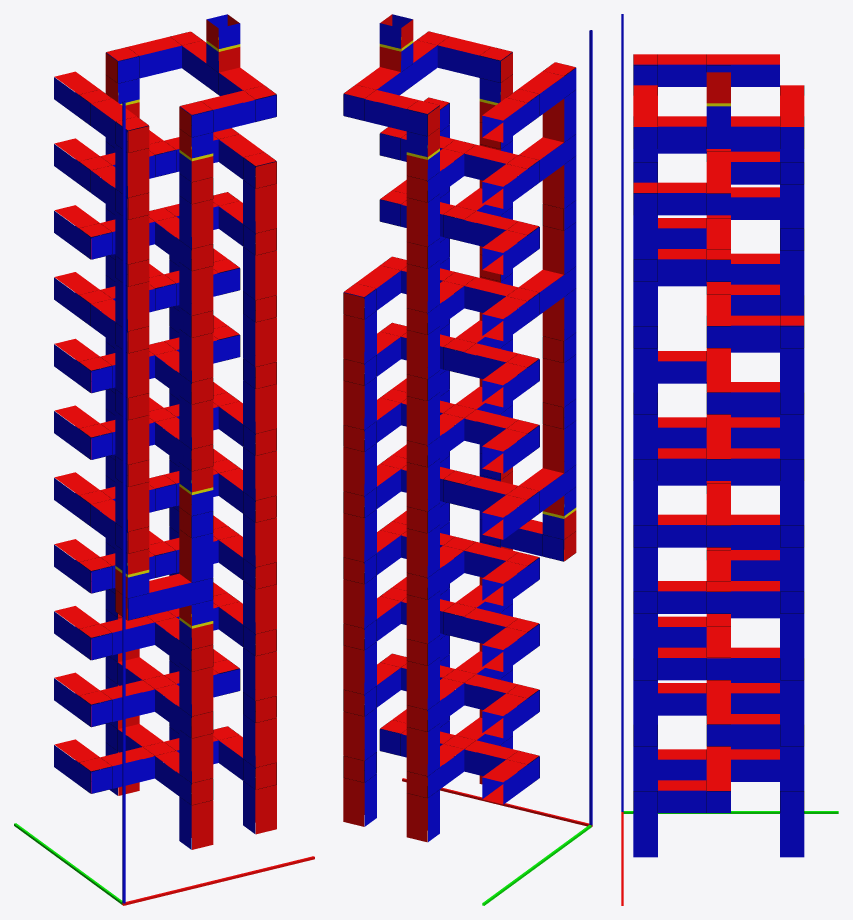
File: factory99.gltf
3 renders of one model, left to right at view 1: azimuth 30°, elevation 25°; view 2: azimuth 150°, elevation 25°; view 3: azimuth 270°, elevation 25°, orthographic.
Parts seen in each view (by area): view 1: axisK:-J, axisK:-I, edgeK(0, 0, 10):-J, edgeK(1, 0, 5):-J, edgeK(1, 0, 6):-J, edgeK(2, 0, 1):-J, edgeK(2, 0, 2):-J, edgeK(2, 0, 9):-J, edgeK(0, 0, 8):-J, edgeK(0, 0, 9):-J, edgeK(1, 0, 0):-J, edgeK(1, 0, 4):-J (+27 smaller); view 2: axisK:+J, axisK:-I, edgeJ(0, 0, 8):-I (×2), edgeJ(0, 0, 5):-I (×2), edgeJ(0, 0, 10):-I (×2), edgeJ(1, 2, 10):+J, edgeJ(2, 2, 1):+J, edgeJ(2, 2, 2):+J, edgeJ(1, 2, 0):+J, edgeJ(1, 2, 3):+J, edgeJ(1, 2, 6):+J, edgeJ(1, 2, 9):+J (+113 smaller); view 3: axisK:+I, edgeJ(2, 0, 3):+I (×2), edgeJ(2, 0, 4):+I (×2), edgeJ(2, 0, 5):+I (×2), edgeJ(2, 0, 9):+I (×2), edgeJ(2, 0, 1):+I (×2), edgeJ(2, 0, 6):+I (×2), edgeJ(2, 1, 11):+I (×2), edgeJ(0, 1, 9):+I, edgeJ(1, 0, 2):+I, edgeJ(1, 0, 7):+I, edgeJ(1, 1, 10):+I (+115 smaller).
Part boxes in pixels (x1=…): axisK:-J: x1=123, y1=102, x2=125, y2=903; axisK:-I: x1=122, y1=102, x2=123, y2=903; edgeK(0, 0, 10):-J: x1=128, y1=148, x2=149, y2=197; edgeK(1, 0, 5):-J: x1=192, y1=466, x2=213, y2=515; edgeK(1, 0, 6):-J: x1=192, y1=399, x2=213, y2=449; edgeK(2, 0, 1):-J: x1=255, y1=718, x2=276, y2=767; edgeK(2, 0, 2):-J: x1=255, y1=651, x2=276, y2=700; edgeK(2, 0, 9):-J: x1=255, y1=183, x2=276, y2=233; edgeK(0, 0, 8):-J: x1=128, y1=282, x2=149, y2=331; edgeK(0, 0, 9):-J: x1=128, y1=215, x2=149, y2=264; edgeK(1, 0, 0):-J: x1=192, y1=800, x2=213, y2=849; edgeK(1, 0, 4):-J: x1=192, y1=533, x2=213, y2=582; axisK:+J: x1=589, y1=30, x2=591, y2=825; axisK:-I: x1=591, y1=30, x2=592, y2=824; edgeJ(0, 0, 8):-I (×2): x1=540, y1=222, x2=576, y2=314; edgeJ(0, 0, 5):-I (×2): x1=540, y1=421, x2=576, y2=512; edgeJ(0, 0, 10):-I (×2): x1=540, y1=90, x2=576, y2=181; edgeJ(1, 2, 10):+J: x1=406, y1=131, x2=427, y2=180; edgeJ(2, 2, 1):+J: x1=343, y1=711, x2=364, y2=760; edgeJ(2, 2, 2):+J: x1=343, y1=645, x2=364, y2=694; edgeJ(1, 2, 0):+J: x1=406, y1=793, x2=427, y2=842; edgeJ(1, 2, 3):+J: x1=406, y1=595, x2=427, y2=643; edgeJ(1, 2, 6):+J: x1=406, y1=396, x2=427, y2=445; edgeJ(1, 2, 9):+J: x1=406, y1=197, x2=427, y2=246; axisK:+I: x1=621, y1=15, x2=623, y2=811; edgeJ(2, 0, 3):+I (×2): x1=633, y1=614, x2=706, y2=680; edgeJ(2, 0, 4):+I (×2): x1=633, y1=547, x2=706, y2=613; edgeJ(2, 0, 5):+I (×2): x1=633, y1=481, x2=706, y2=547; edgeJ(2, 0, 9):+I (×2): x1=633, y1=215, x2=706, y2=281; edgeJ(2, 0, 1):+I (×2): x1=633, y1=746, x2=706, y2=812; edgeJ(2, 0, 6):+I (×2): x1=633, y1=414, x2=706, y2=480; edgeJ(2, 1, 11):+I (×2): x1=706, y1=82, x2=779, y2=148; edgeJ(0, 1, 9):+I: x1=731, y1=197, x2=779, y2=219; edgeJ(1, 0, 2):+I: x1=658, y1=693, x2=706, y2=715; edgeJ(1, 0, 7):+I: x1=658, y1=361, x2=706, y2=383; edgeJ(1, 1, 10):+I: x1=731, y1=162, x2=779, y2=184.
Size of the model in its own units: 9 by 36.5 by 8.91.
